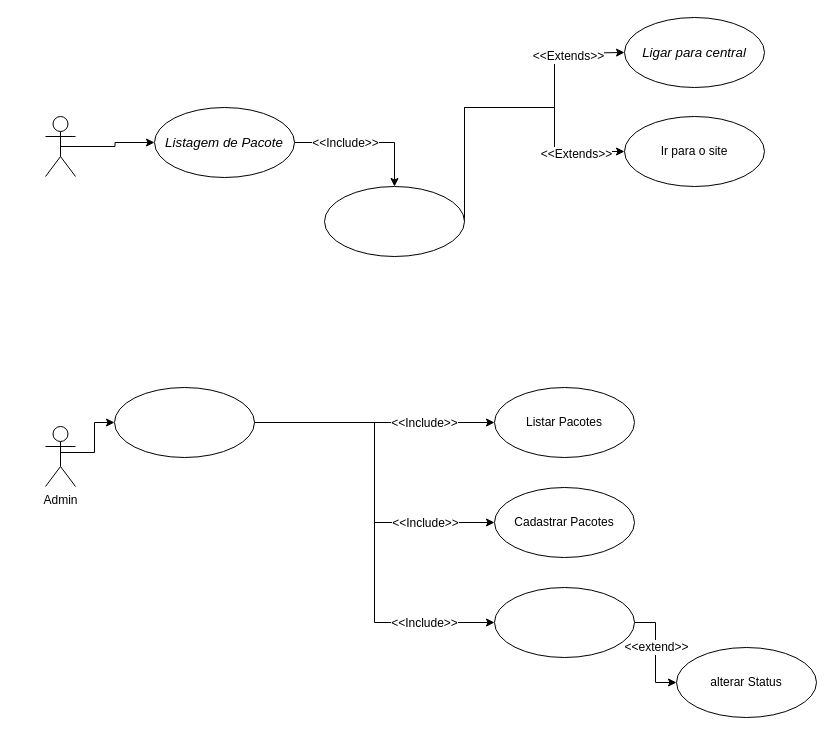
Some shapes in this 834 by 735 pixel diagram are drawn without their labels. Each missing label, with the centre of its shape:
"Editar Pacotes" goes at point 564,622.
"Efetuar Login" goes at point 184,422.
"Seleção do pacote" goes at point 394,221.
"Usuario Comum" goes at point 60,146.
